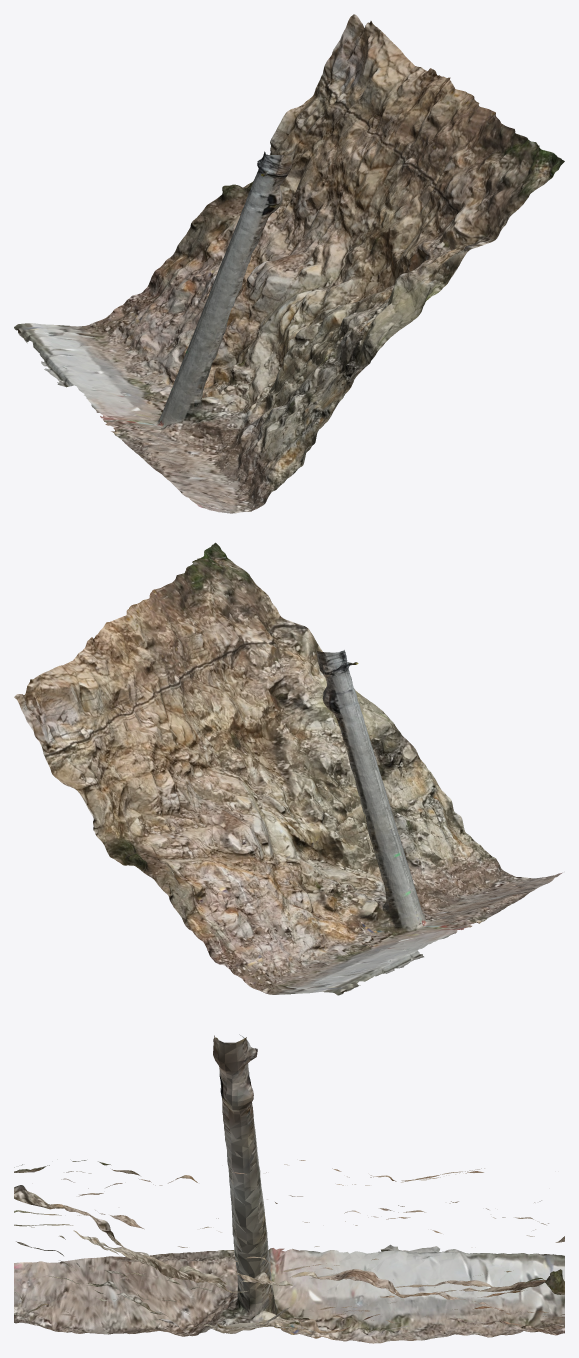
The picture shows the model from 3 angles, top to bottom: view 1: azimuth 30°, elevation 25°; view 2: azimuth 150°, elevation 25°; view 3: azimuth 270°, elevation 25°; orthographic projection. The views are drawn at different scales.
Size of the model in its own units: 5.05 by 3.66 by 5.05.
Materials: 3 (3 with a texture image).
